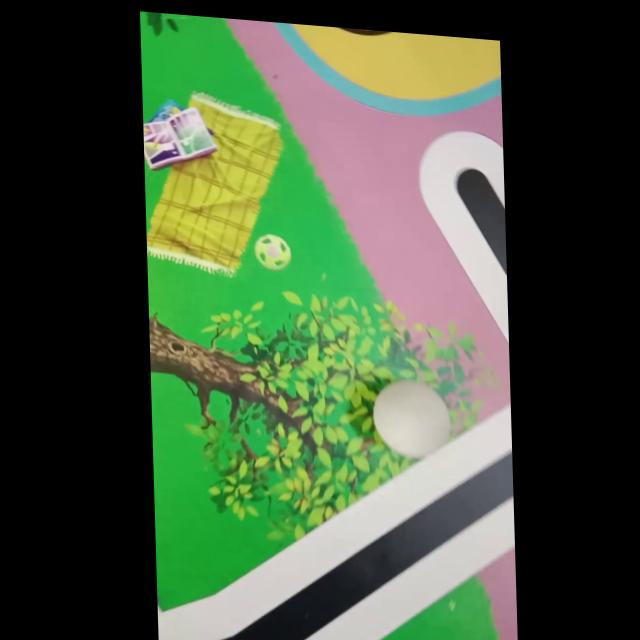white ball: (371, 376, 452, 461)
